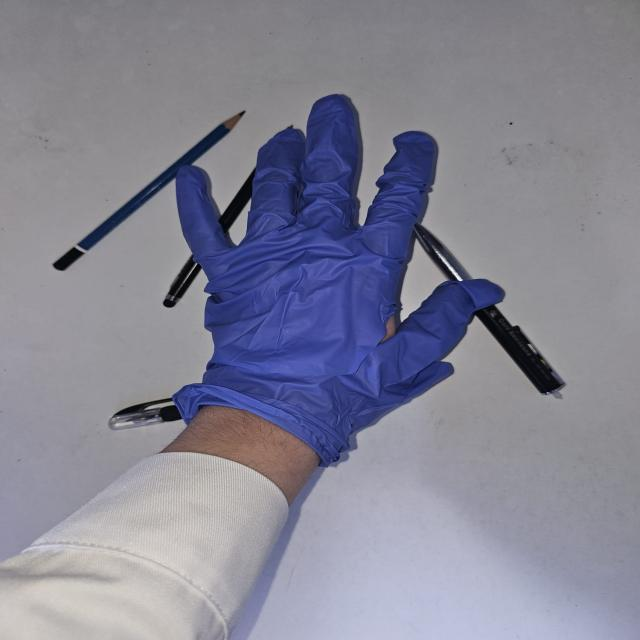gloves_damaged: (175, 94, 508, 422)
